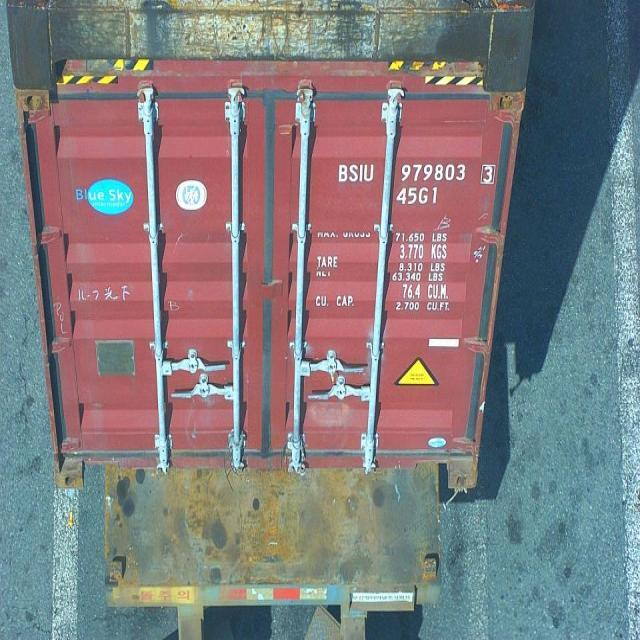ISO: (396, 188, 438, 205)
container_number: (337, 159, 498, 185)
